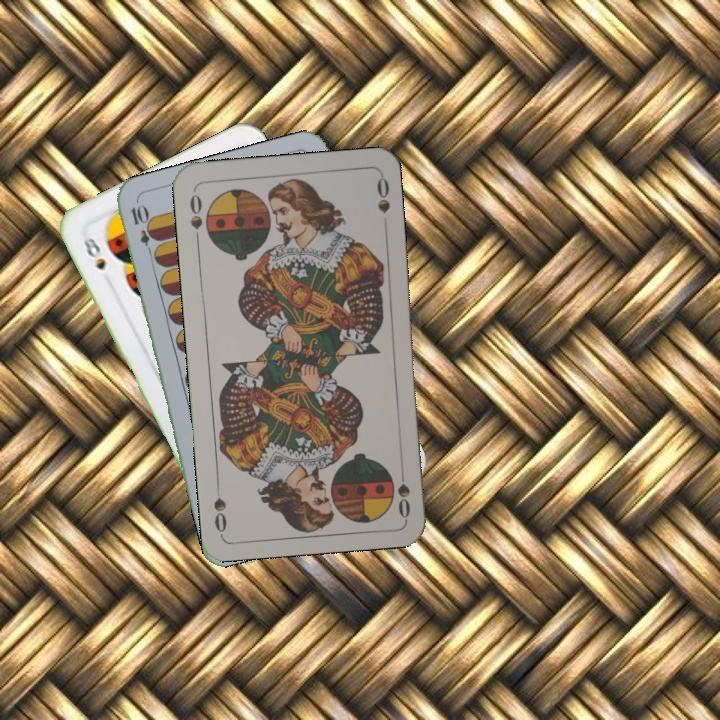E10: (126, 201, 157, 259)
S8: (77, 230, 109, 273)
SO: (393, 461, 413, 520), (186, 187, 205, 246)
